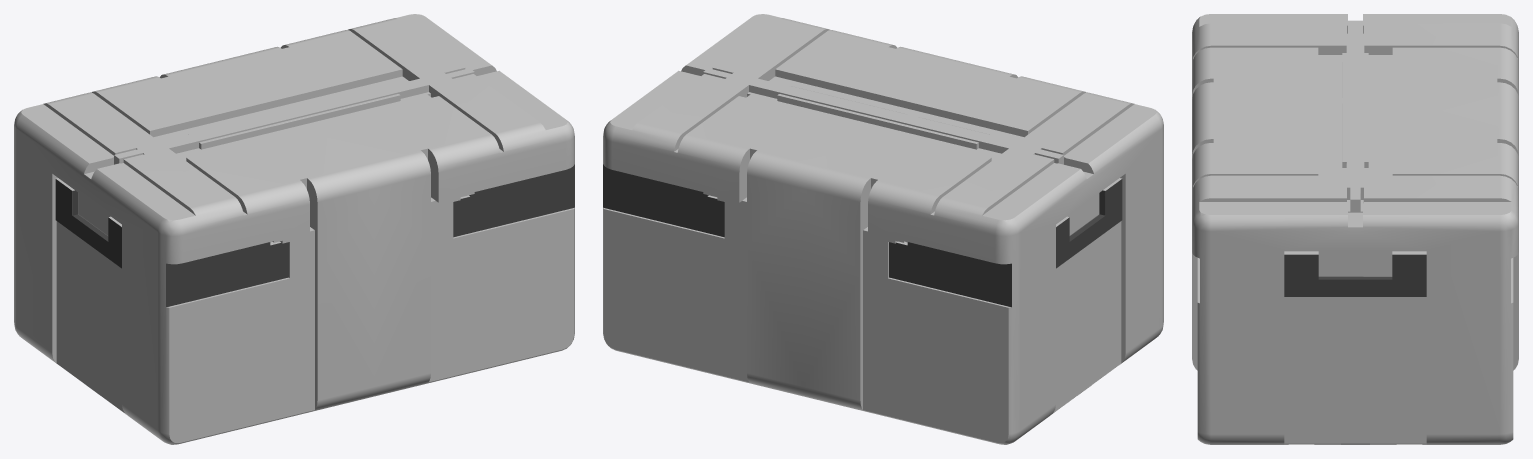
Rendered from crate_a.glb.
3 renders of one model, left to right at view 1: azimuth 30°, elevation 25°; view 2: azimuth 150°, elevation 25°; view 3: azimuth 270°, elevation 25°, orthographic. The views are drawn at different scales.
Parts seen in each view (by area): view 1: Crate_A; view 2: Crate_A; view 3: Crate_A.
Boxes of the visible parts, x1,y1,x2,y2 form: Crate_A: [14, 14, 574, 444]; Crate_A: [603, 14, 1163, 444]; Crate_A: [1192, 14, 1518, 444].
Size of the model in its own units: 1.5 by 0.8 by 1.
Materials: 1 (1 with a texture image).
